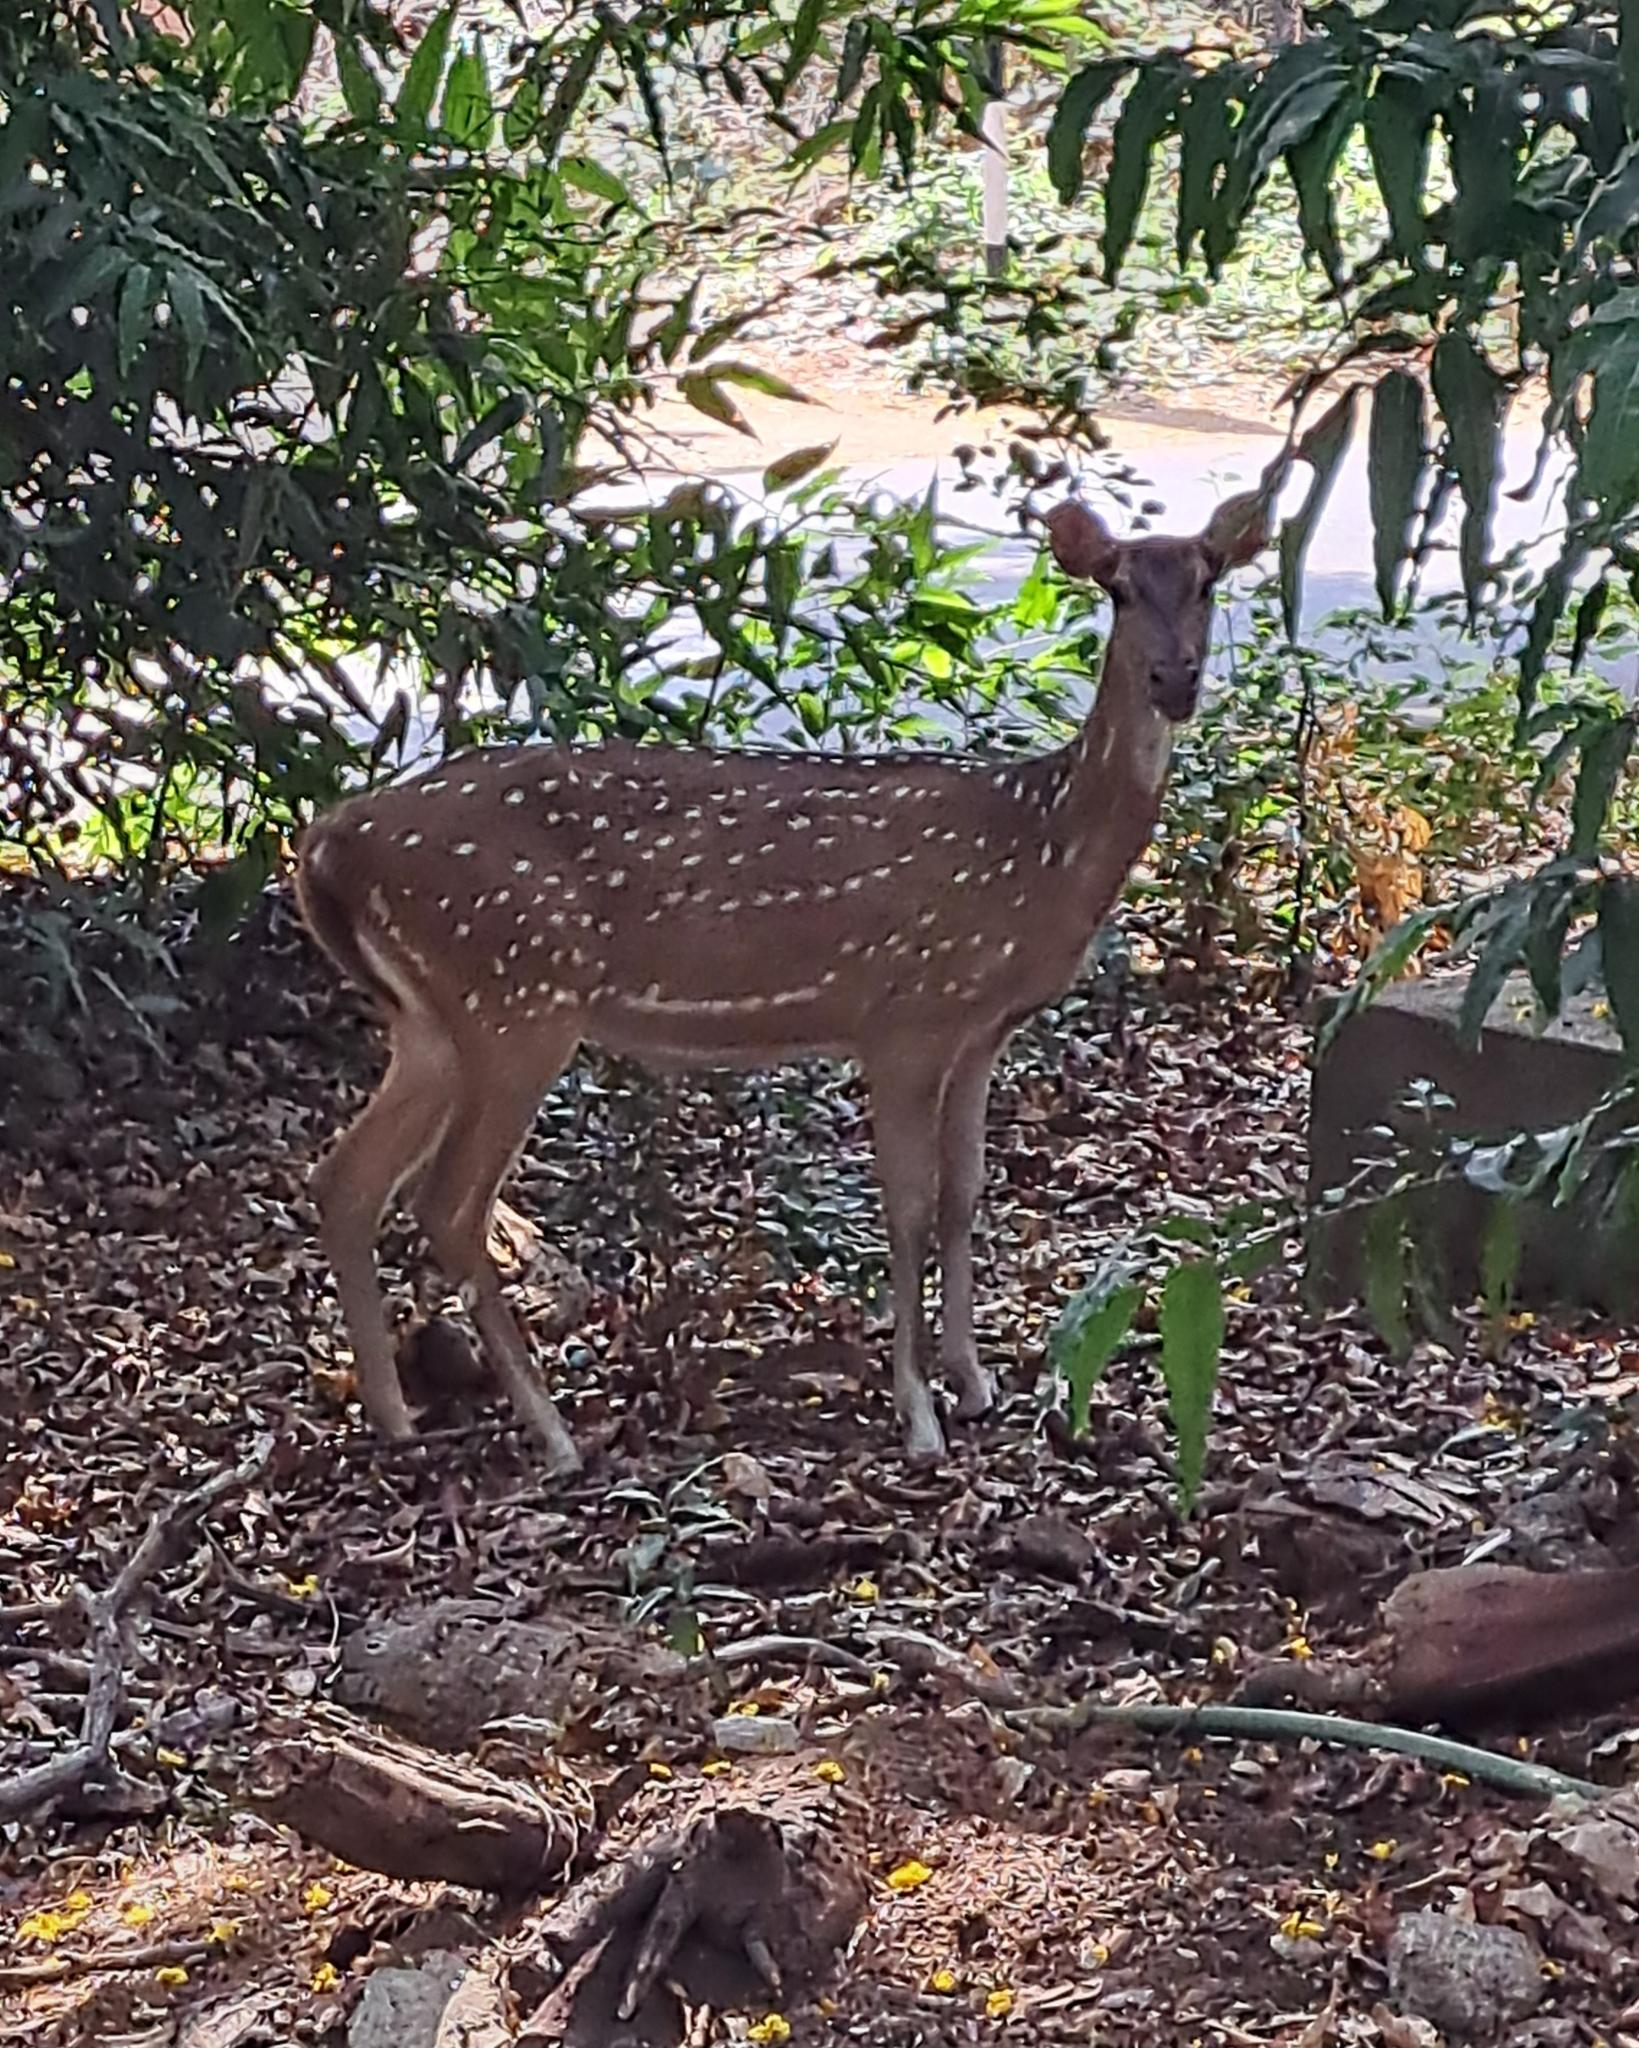Deer: (294, 460, 1279, 1471)
